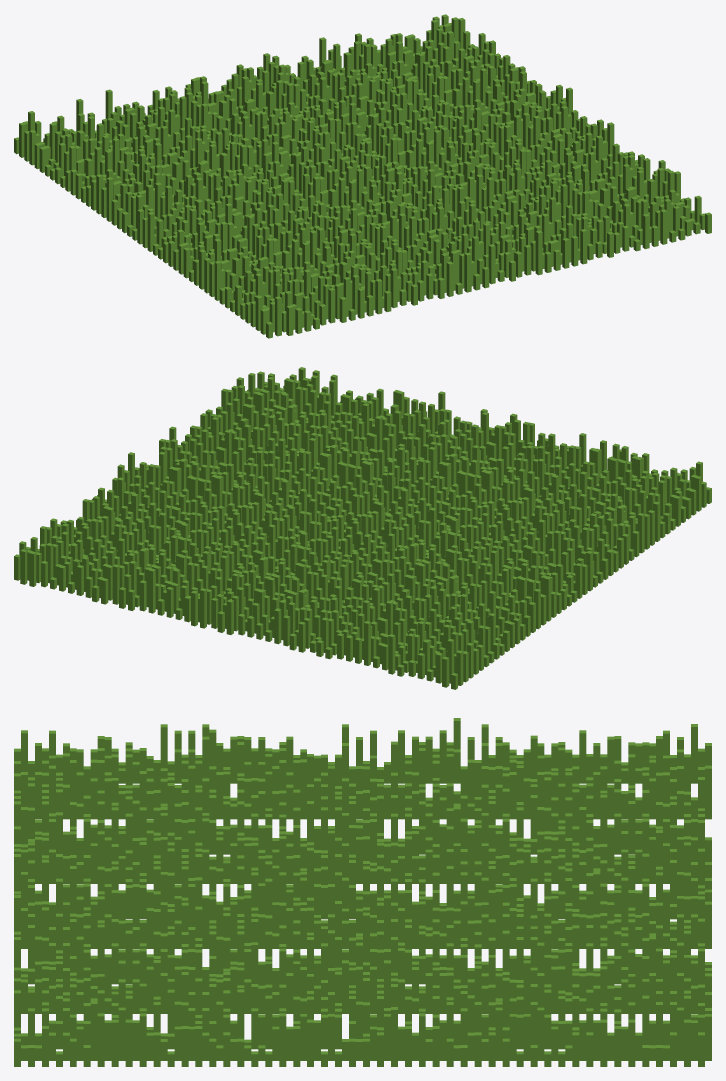
Rendered from Plants-3-Grass 4.obj.
3 views of the same model, one above another, from view 1: azimuth 30°, elevation 25°; view 2: azimuth 150°, elevation 25°; view 3: azimuth 270°, elevation 25° (orthographic). The views are drawn at different scales.
Visible parts, largest first — view 1: Grass 4; view 2: Grass 4; view 3: Grass 4.
Part boxes in pixels (left/top/right/bottom): Grass 4: left=14, top=14, right=711, bottom=338; Grass 4: left=14, top=367, right=711, bottom=689; Grass 4: left=14, top=718, right=711, bottom=1066.
Bounding box in the file's own units: 9.9 × 0.9 × 10.
Materials: 1 (1 with a texture image).
